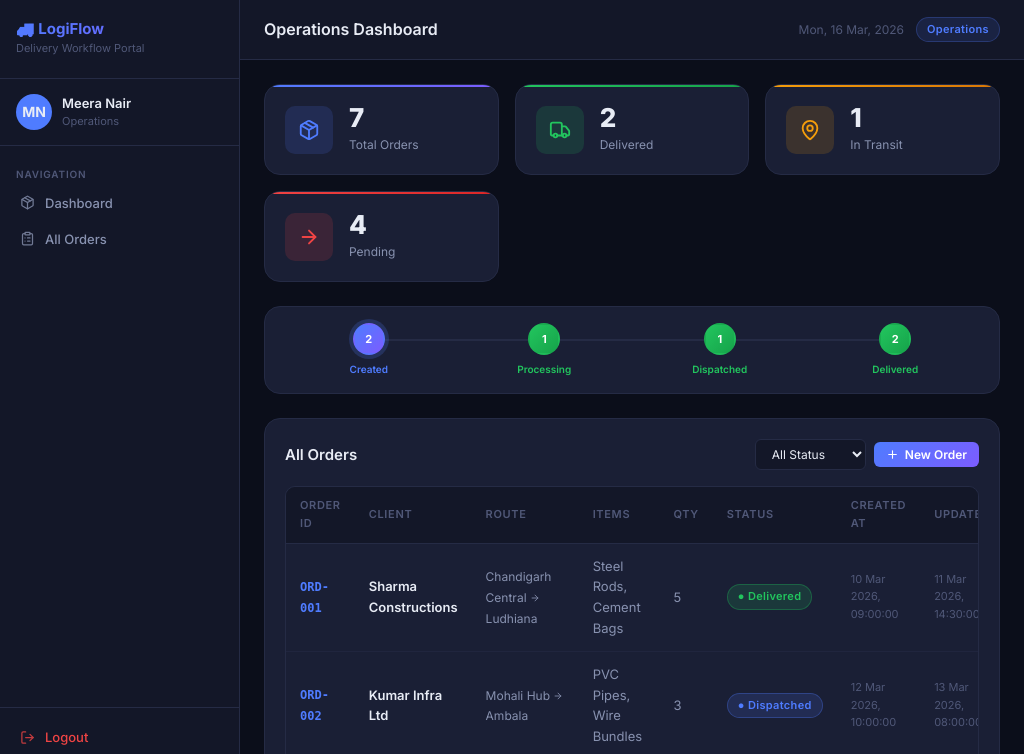
Operations Dashboard › creates a new order and shows it in the table
Click the button "New Order": click(926, 455) x1=874 y1=442 x2=979 y2=467
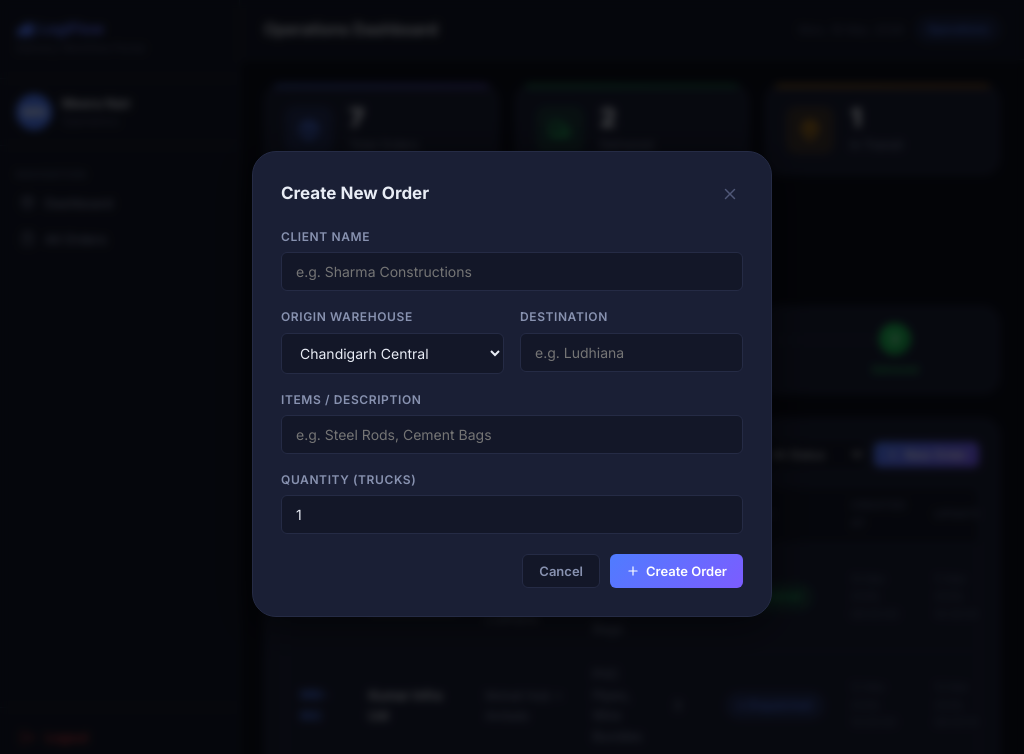
In the field with placeholder "e.g. Sharma Constructions": (512, 272) x1=281 y1=252 x2=743 y2=291, type "Omega Constructions"
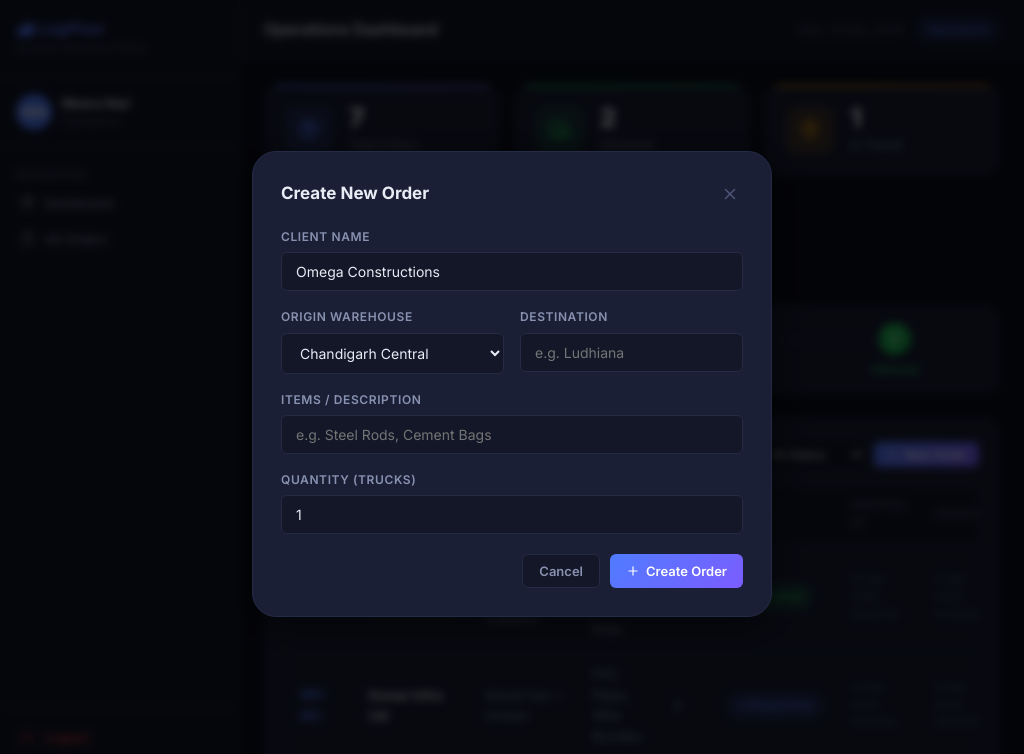
In the field with placeholder "e.g. Ludhiana": (632, 352) x1=520 y1=333 x2=743 y2=372, type "Pathankot"
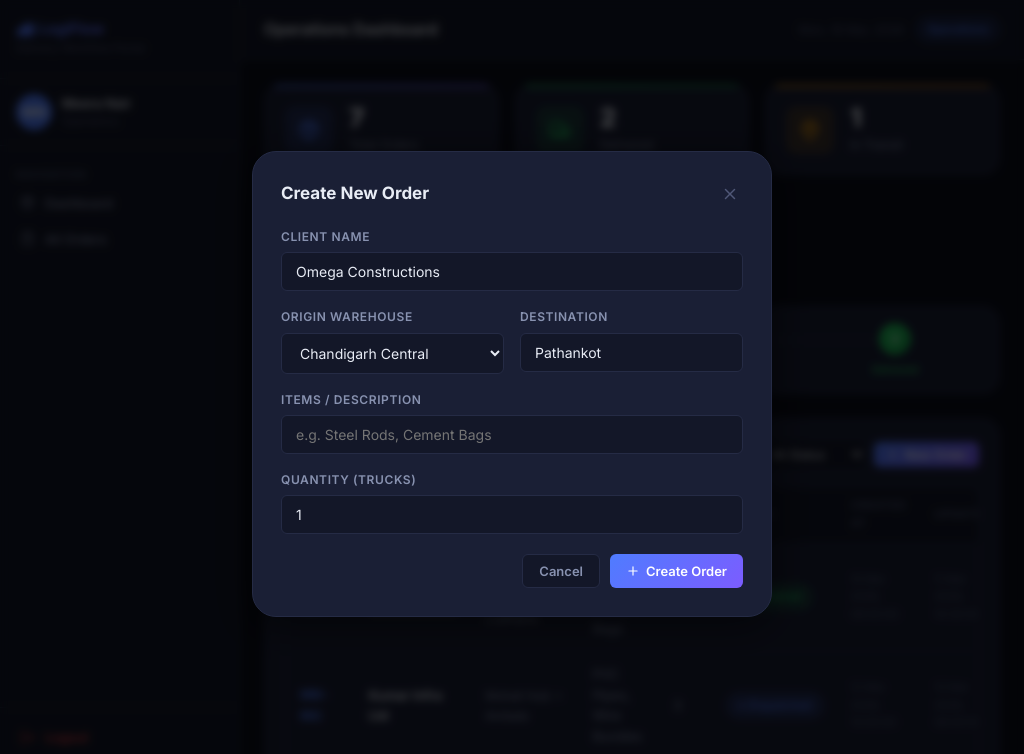
In the field with placeholder "e.g. Steel Rods, Cement Bags": (512, 434) x1=281 y1=415 x2=743 y2=454, type "Bricks"
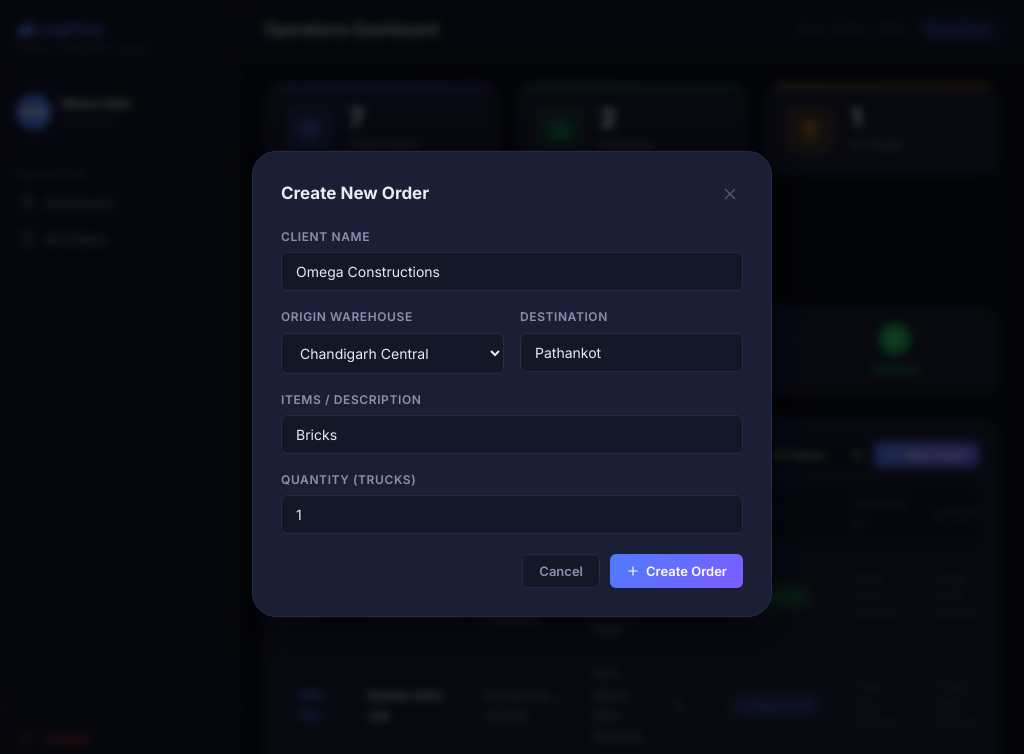
Click the button "Create Order": click(676, 571) x1=610 y1=554 x2=743 y2=588
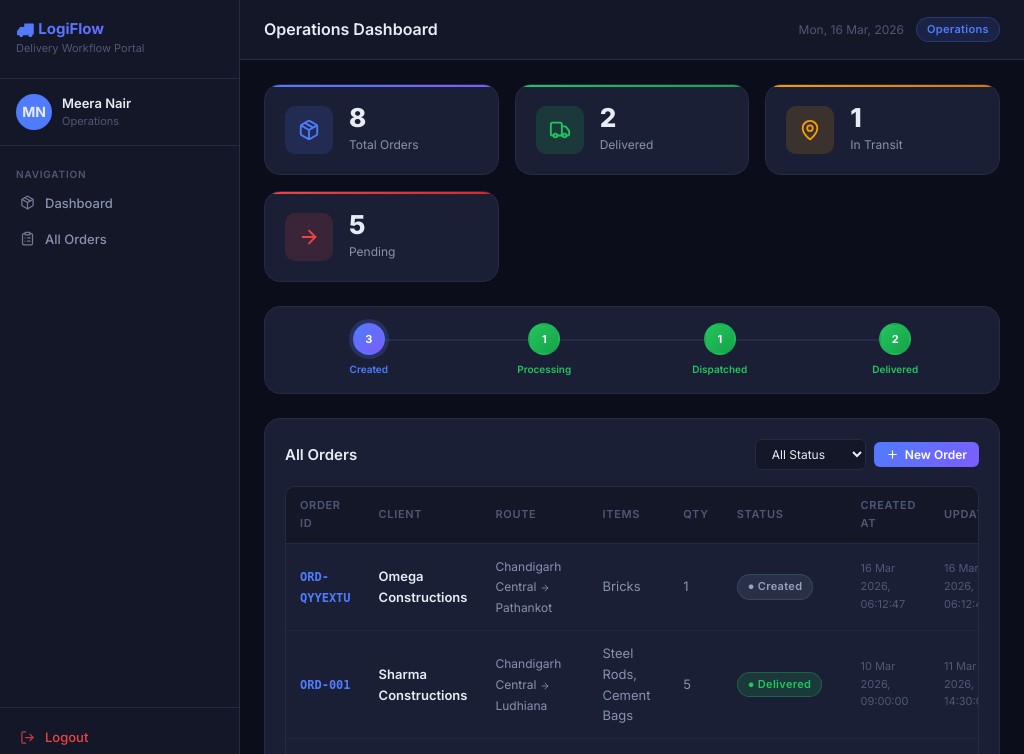
Expected: the text "Omega Constructions" is shown, x1=365 y1=543 x2=482 y2=630
